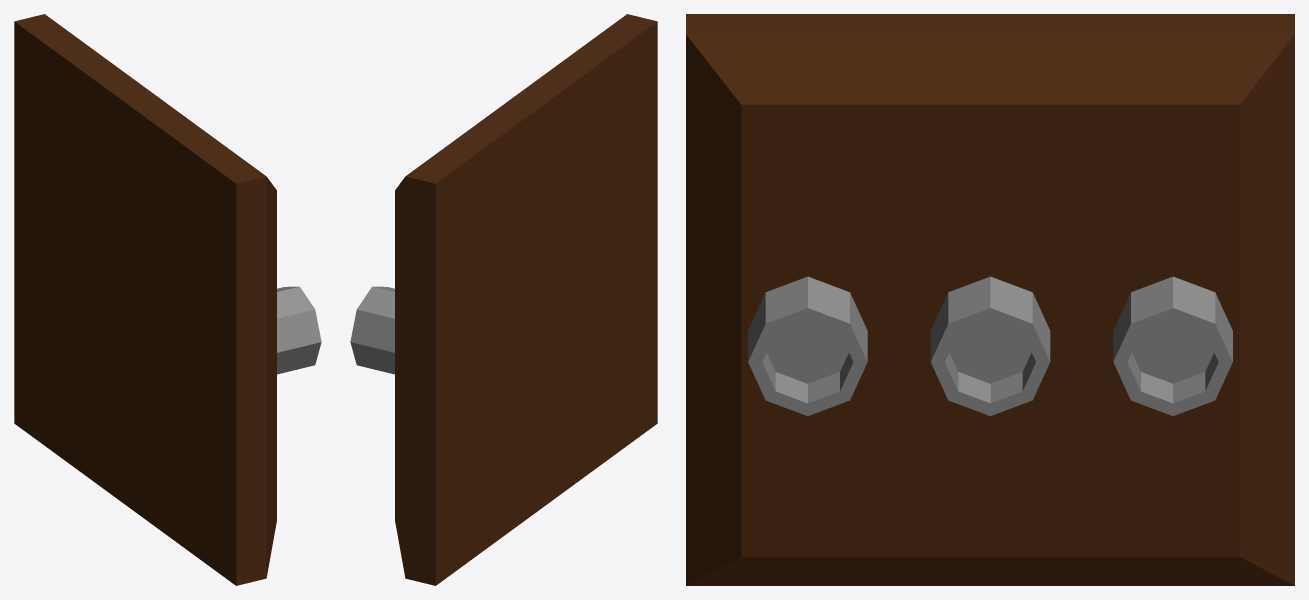
Rendered from DartShooter.fbx.
3 views of the same model, side by side, from view 1: azimuth 30°, elevation 25°; view 2: azimuth 150°, elevation 25°; view 3: azimuth 270°, elevation 25° (orthographic). The views are drawn at different scales.
Parts seen in each view (by area): view 1: Cube; view 2: Cube; view 3: Cube.
Part boxes in pixels (<box>): Cube: <box>14,14,321,585</box>; Cube: <box>350,14,657,585</box>; Cube: <box>686,14,1294,585</box>.
Size of the model in its own units: 56.21 by 200 by 200.
